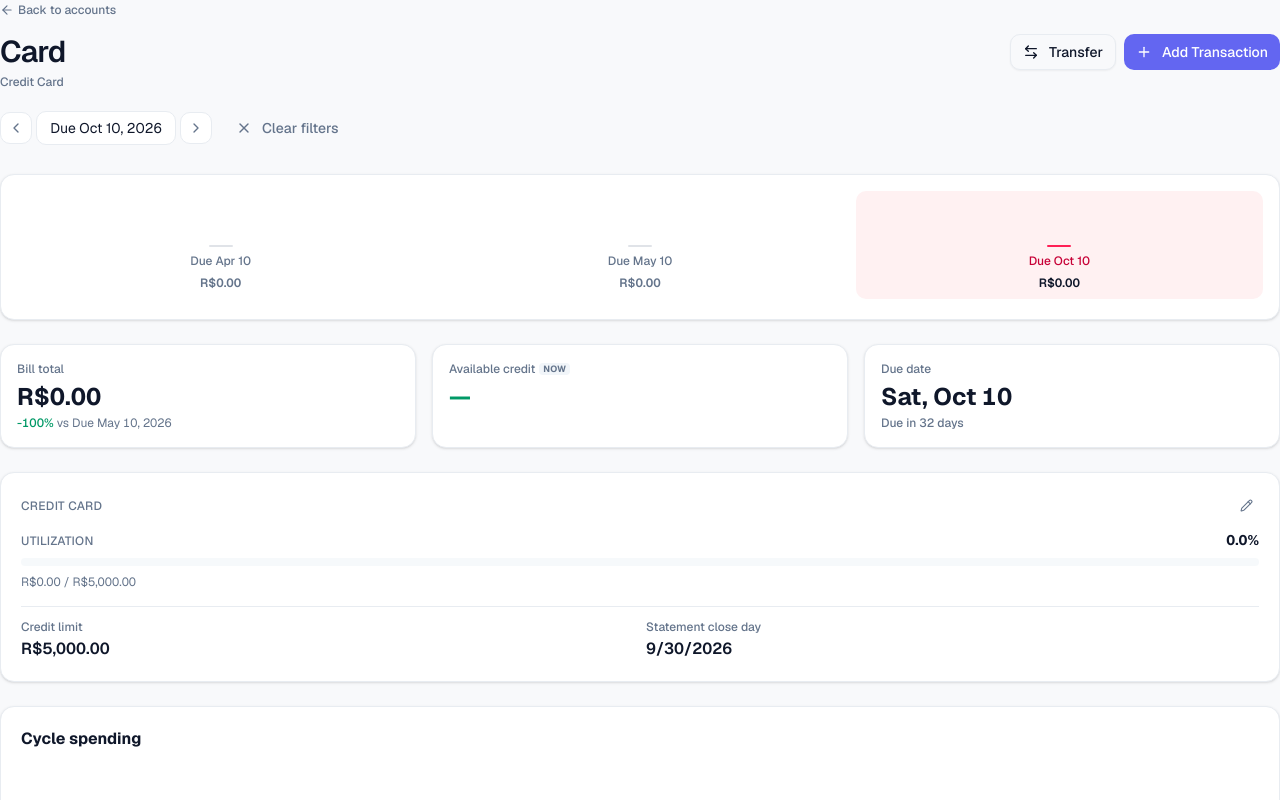
it: credit card cycle window › names a hand-picked range by its own dates instead of a statement month
This screenshot has width=1280, height=800.
What coordinates should you click on to do the following:
click the button titled "Previous cycle"
I would click on:
 (16, 128)
Its box is [0, 112, 32, 144].
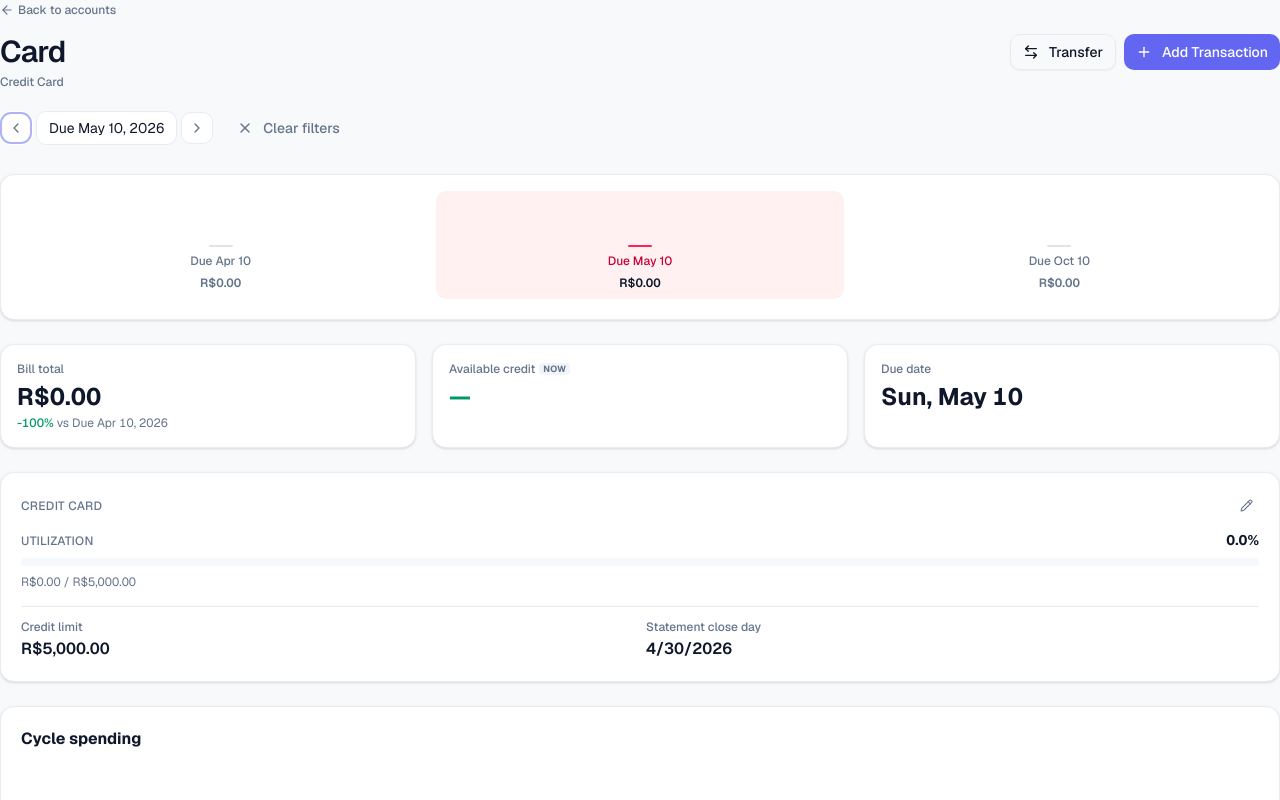
What coordinates should you click on to do the following:
click the button "Due May 10, 2026"
I would click on:
 (107, 128)
Its box is [36, 111, 177, 145].
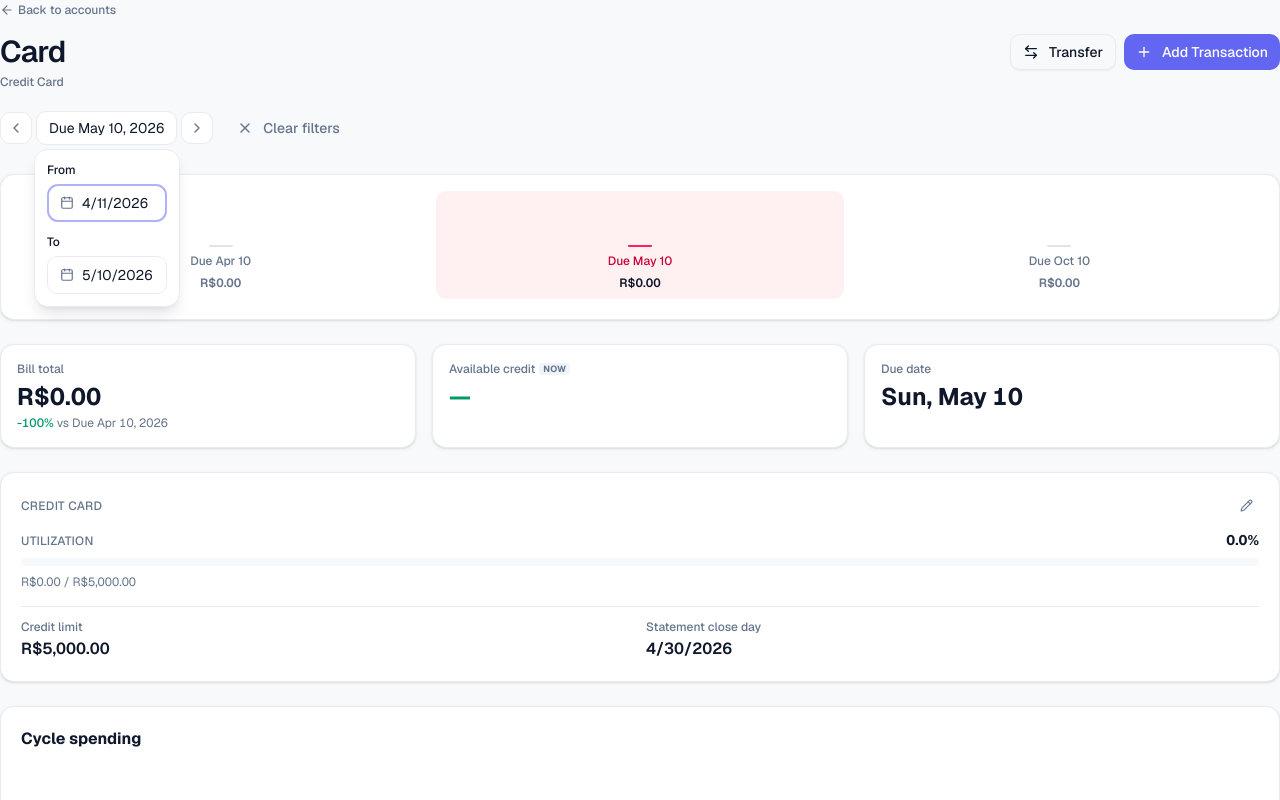
What coordinates should you click on to do the following:
click the button "5/10/2026"
I would click on:
 (107, 275)
Its box is [47, 256, 167, 294].
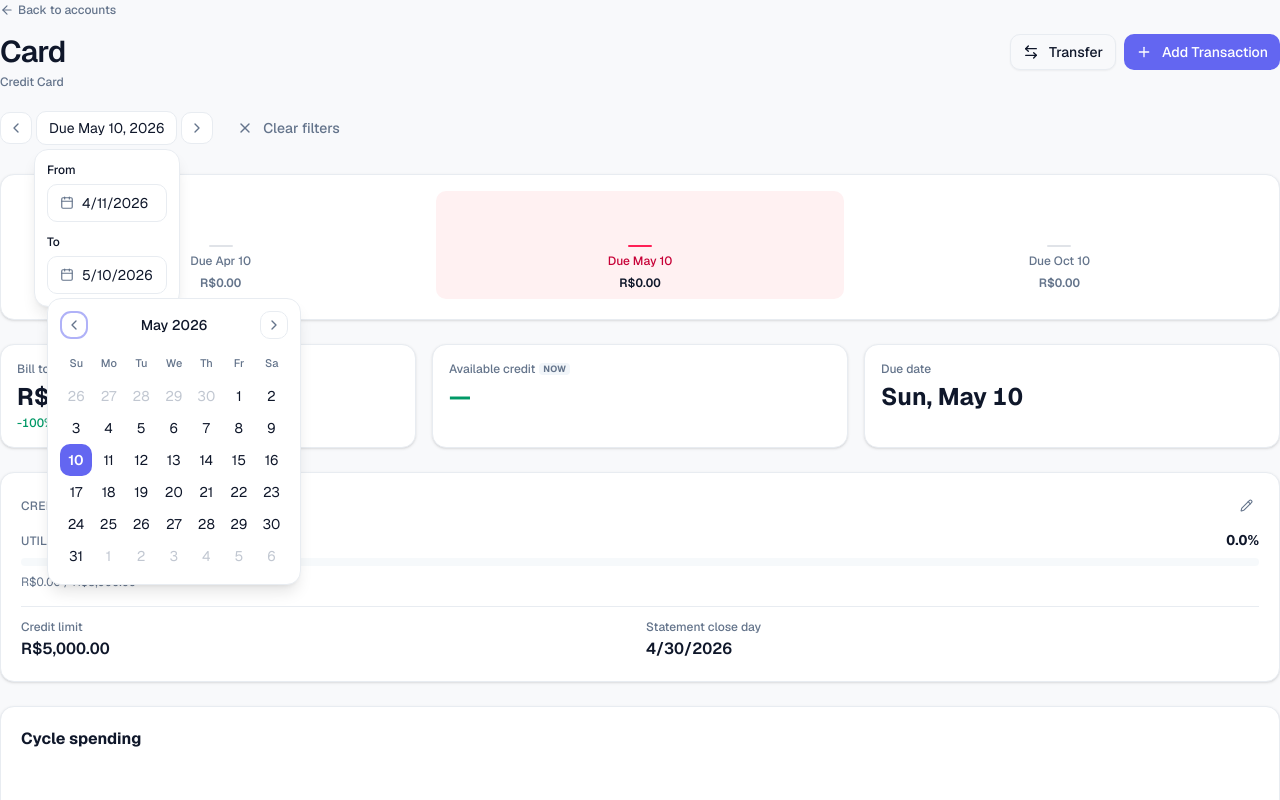
What coordinates should you click on to do the following:
click the button "15"
I would click on:
 (239, 460)
Its box is [223, 444, 255, 476].
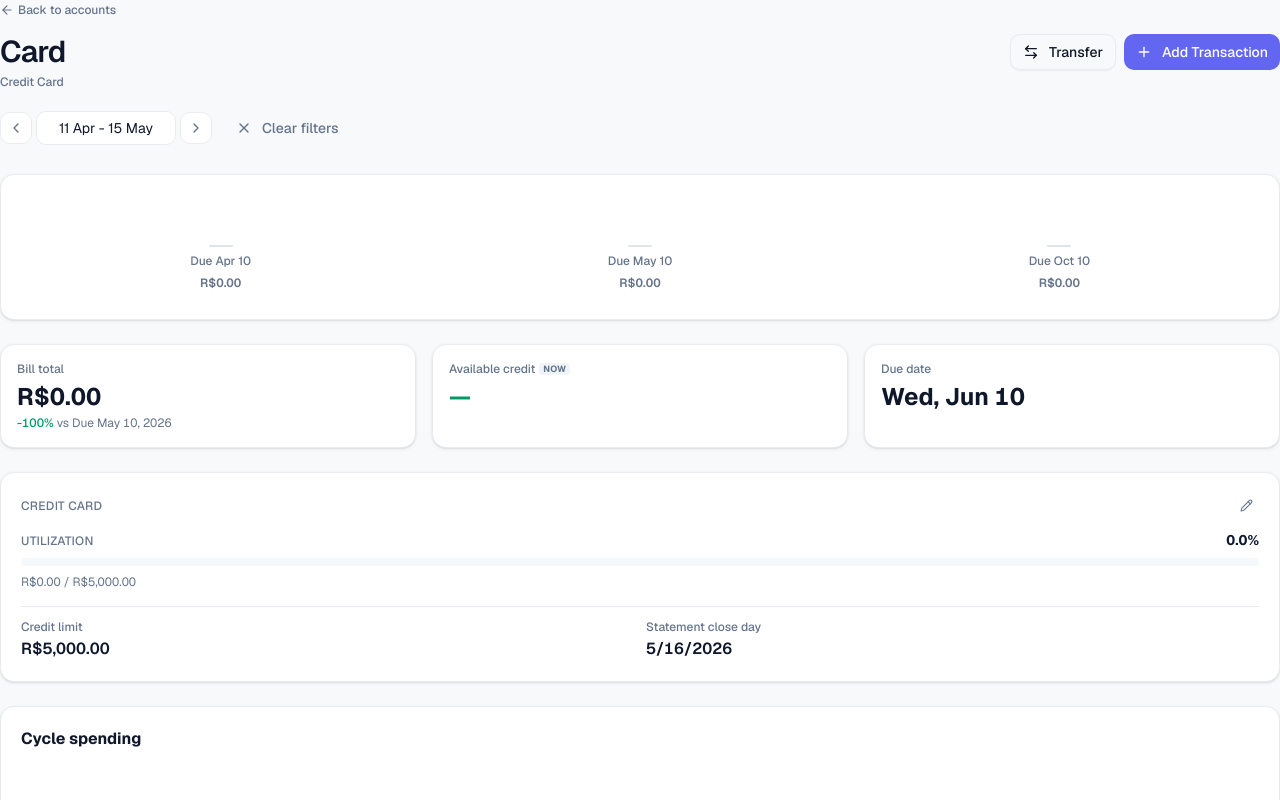
Now the button "11 Apr - 15 May" is shown, box [36, 111, 176, 145]
